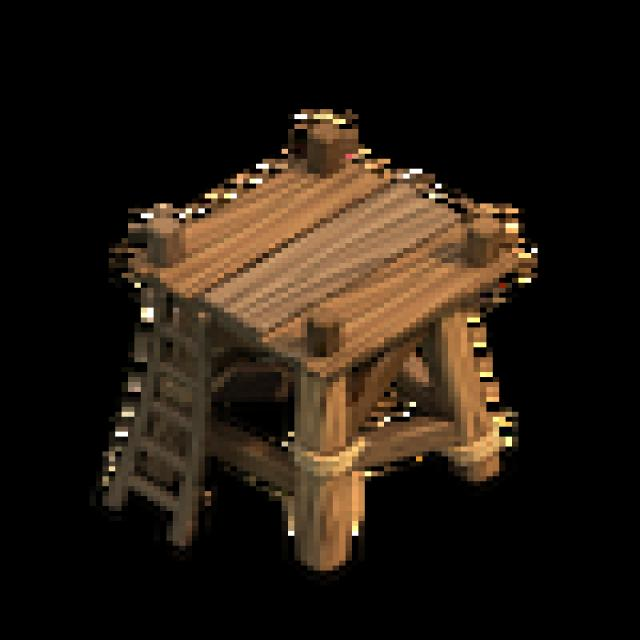archer_tower: (9, 82, 621, 616)
